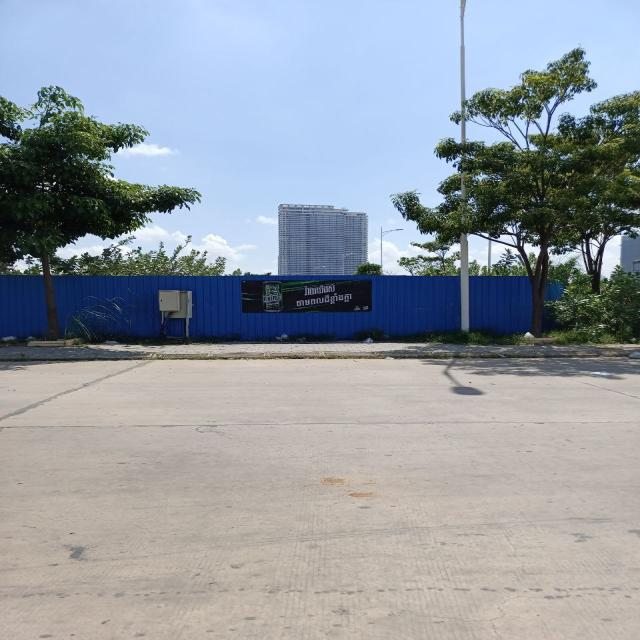Yolov11kh: (295, 292, 354, 308), (303, 282, 337, 296)
